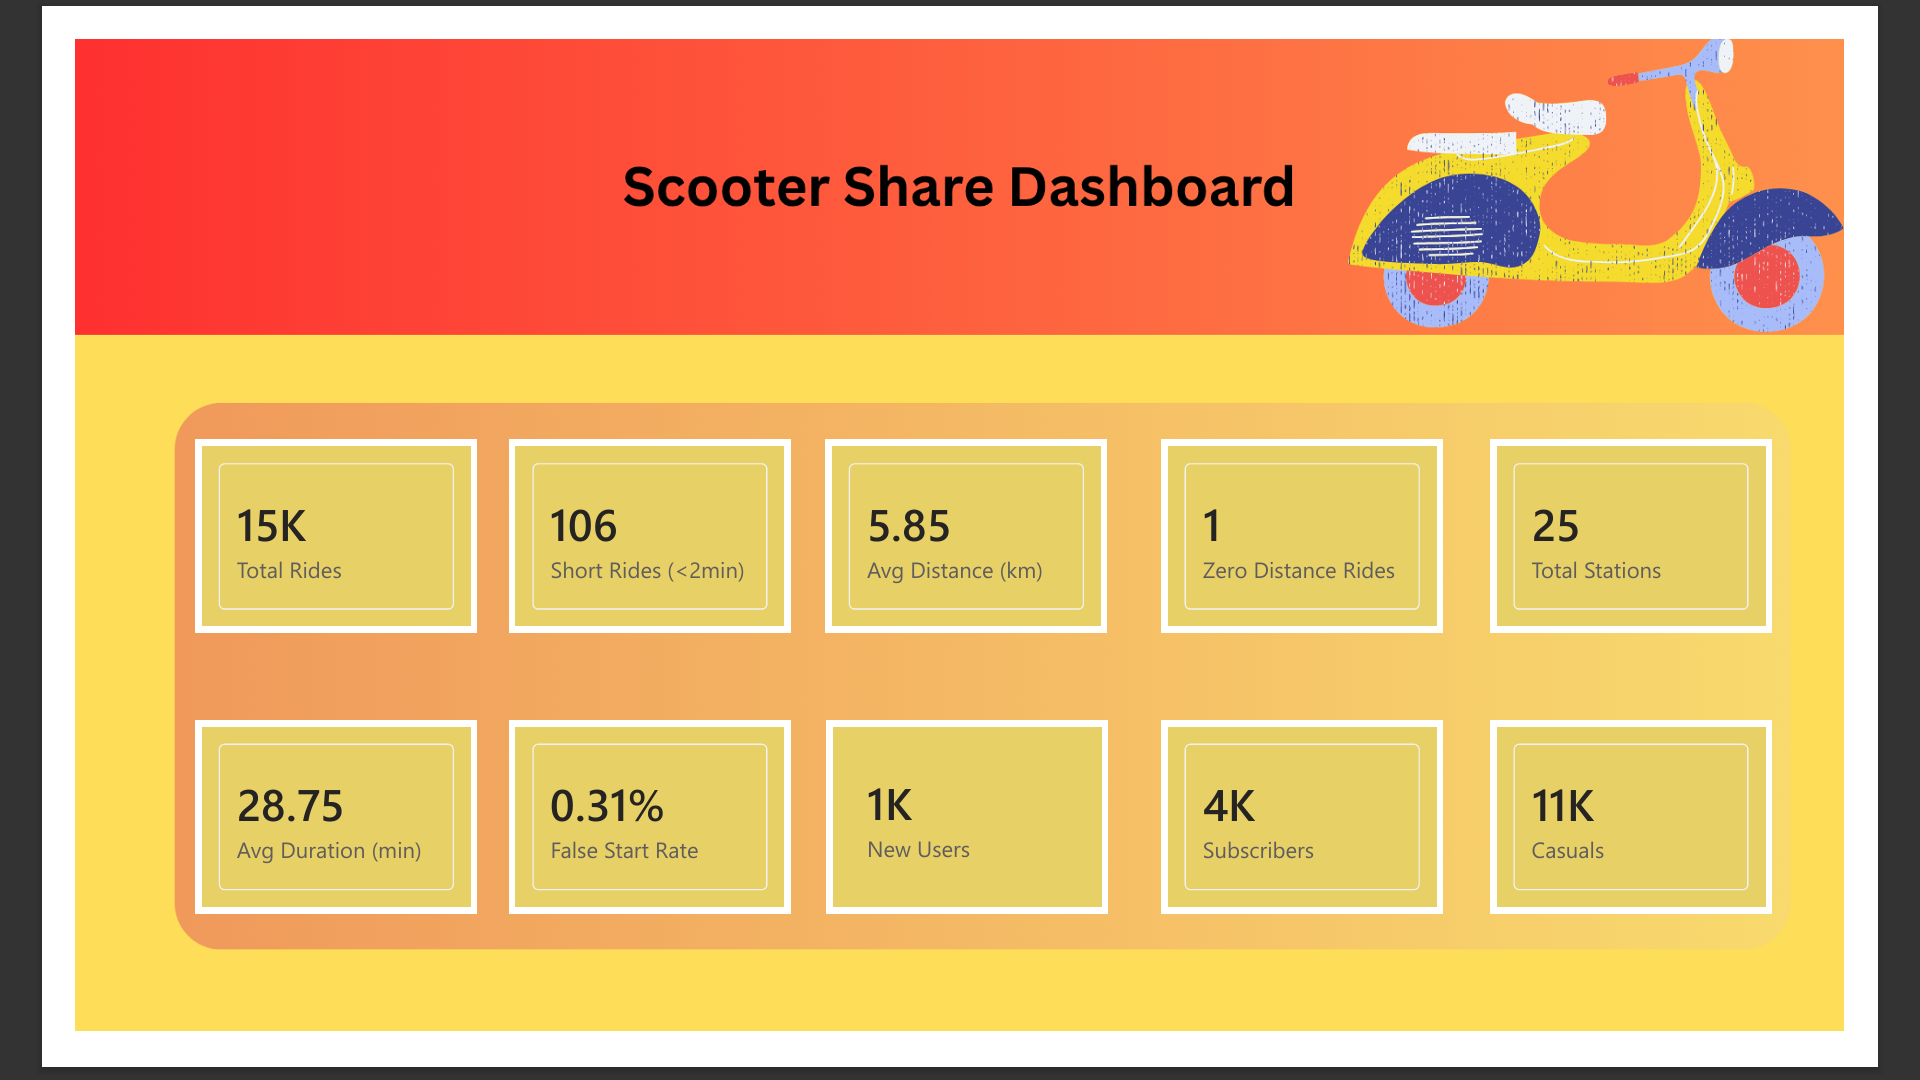

The dashboard page shown, as its layout file describes it:
{"tool":"powerbi","page":{"name":"Overview","canvas":[1280,720],"ordinal":0},"visuals":[{"type":"cardVisual","fields":{"Data":["rides measurements.Total Rides"]},"box":[87.1,290,204,140],"z":0},{"type":"cardVisual","fields":{"Data":["user measurements.New Users"]},"box":[544.3,492.9,204,140],"z":1000},{"type":"cardVisual","fields":{"Data":["rides measurements.Avg Distance (km)"]},"box":[542.9,290,204,140],"z":2000},{"type":"cardVisual","fields":{"Data":["rides measurements.Zero Distance Rides"]},"box":[785.7,290,204.3,140],"z":3000},{"type":"cardVisual","fields":{"Data":["rides measurements.Total Stations"]},"box":[1034.3,290,204,140],"z":4000},{"type":"cardVisual","fields":{"Data":["rides measurements.Avg Duration (min)"]},"box":[87.1,492.9,204,140],"z":5000},{"type":"cardVisual","fields":{"Data":["rides measurements.False Start Rate"]},"box":[314.3,492.9,204,140],"z":6000},{"type":"cardVisual","fields":{"Data":["rides measurements.Short Rides (<2min)"]},"box":[314.3,290,204,140],"z":7000},{"type":"cardVisual","fields":{"Data":["user measurements.Subscribers"]},"box":[785.7,492.9,204.3,140],"z":7001},{"type":"cardVisual","fields":{"Data":["user measurements.Casuals"]},"box":[1024.3,492.9,204,140],"z":7002}]}

Visuals, with their boxes in screenshot pixels (x1, y1, x2, y2), scaled from the page's 1280x720 canvas onto the 1920x1080 screenshot:
cardVisual - rides measurements.Total Rides: (131,435,437,645)
cardVisual - user measurements.New Users: (816,739,1122,949)
cardVisual - rides measurements.Avg Distance (km): (814,435,1120,645)
cardVisual - rides measurements.Zero Distance Rides: (1179,435,1485,645)
cardVisual - rides measurements.Total Stations: (1551,435,1857,645)
cardVisual - rides measurements.Avg Duration (min): (131,739,437,949)
cardVisual - rides measurements.False Start Rate: (471,739,777,949)
cardVisual - rides measurements.Short Rides (<2min): (471,435,777,645)
cardVisual - user measurements.Subscribers: (1179,739,1485,949)
cardVisual - user measurements.Casuals: (1536,739,1842,949)
